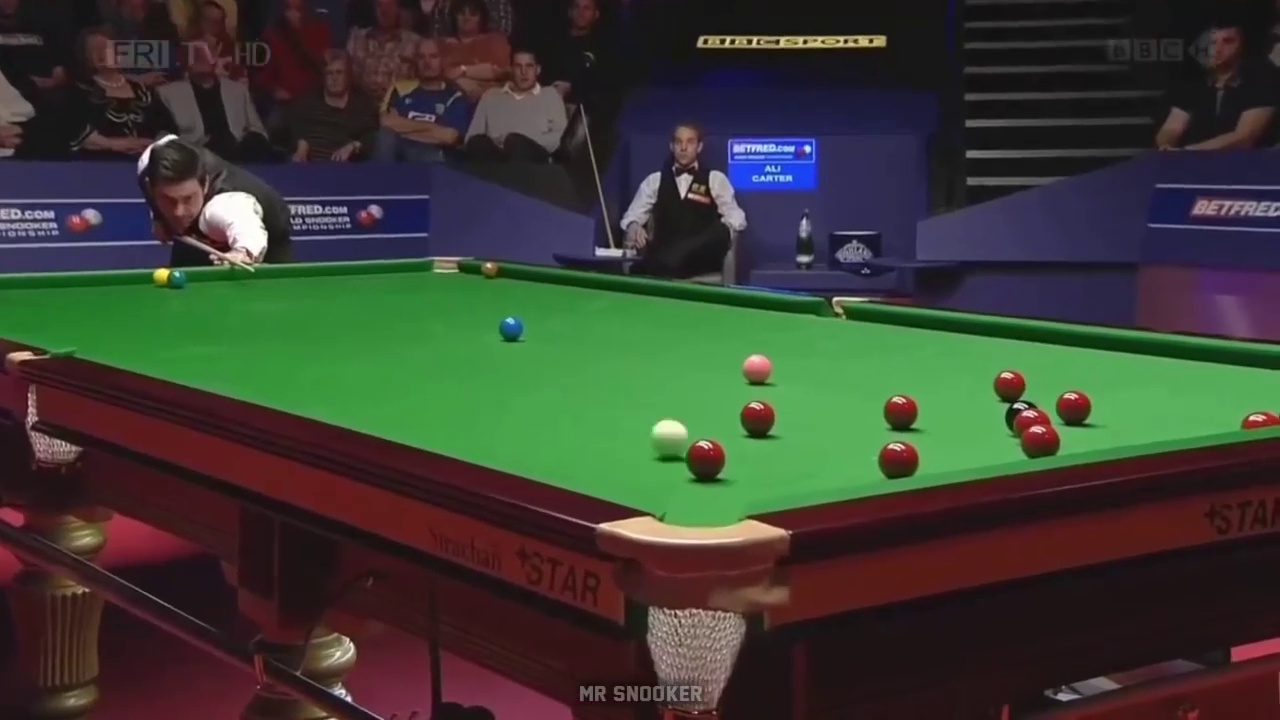blue: (499, 317, 522, 338)
green: (170, 267, 185, 288)
pink: (741, 354, 773, 384)
red: (878, 441, 916, 478), (689, 440, 724, 477), (1057, 390, 1091, 425), (1020, 426, 1058, 457), (883, 396, 917, 430), (741, 403, 773, 438), (994, 372, 1024, 401)
white: (649, 420, 688, 460)
yellow: (151, 266, 168, 286)
